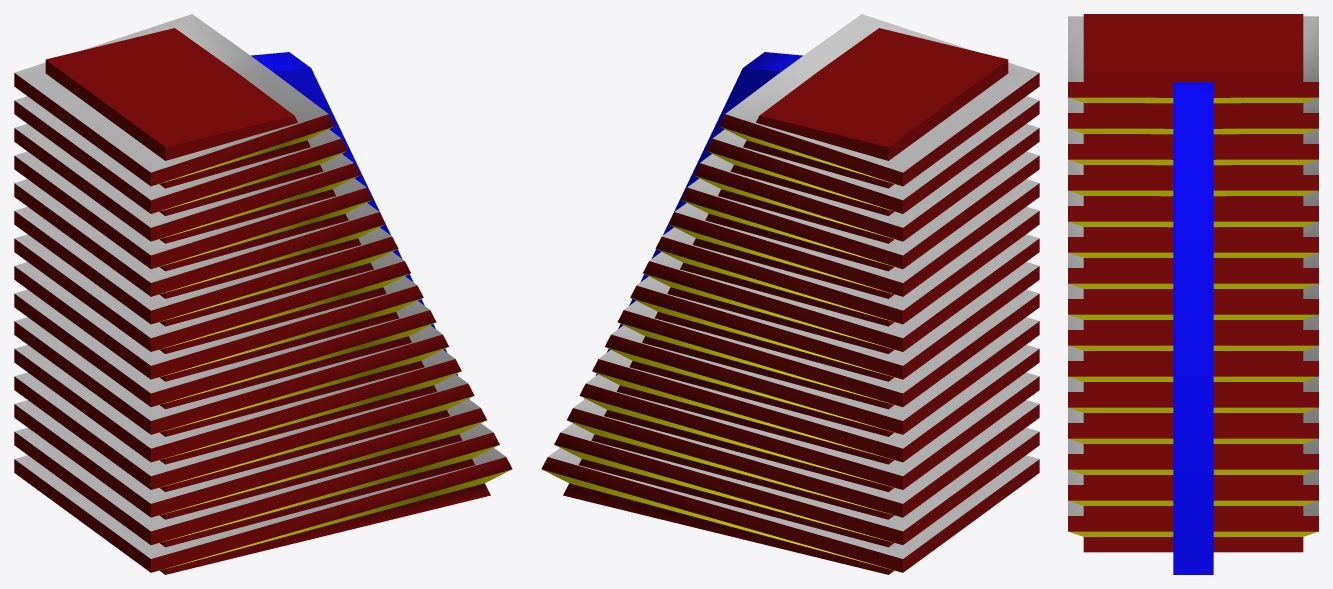
The model's file is building1.fbx.
The picture shows the model from 3 angles, left to right: view 1: azimuth 30°, elevation 25°; view 2: azimuth 150°, elevation 25°; view 3: azimuth 270°, elevation 25°; orthographic projection. The views are drawn at different scales.
Parts seen in each view (by area): view 1: material3; view 2: material3; view 3: material3.
Boxes of the visible parts, box(x1,y1,x2,y2) form: material3: box(14, 14, 512, 574); material3: box(541, 14, 1039, 574); material3: box(1068, 14, 1318, 574).
Bounding box in the file's own units: 0.976 × 1 × 0.579.
